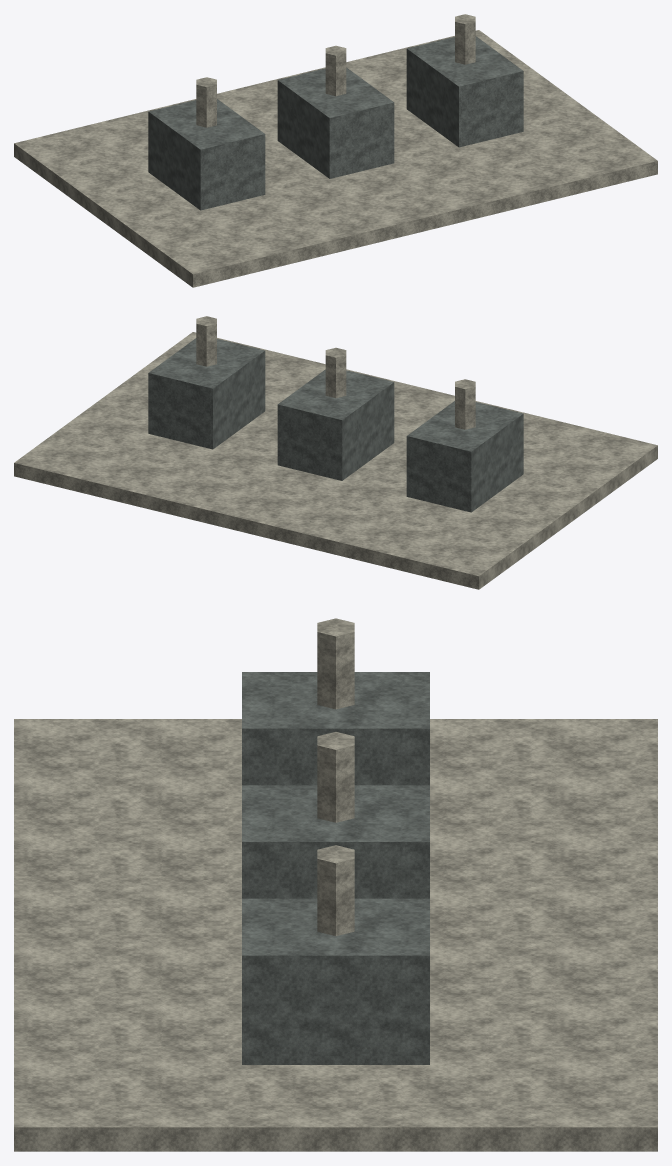
File: Strategic_Substation.fbx
3 views of the same model, one above another, from view 1: azimuth 30°, elevation 25°; view 2: azimuth 150°, elevation 25°; view 3: azimuth 270°, elevation 25° (orthographic). The views are drawn at different scales.
Visible parts, largest first — view 1: Strategic_Substation; view 2: Strategic_Substation; view 3: Strategic_Substation.
Part boxes in pixels (<box>): Strategic_Substation: <box>14,14,657,287</box>; Strategic_Substation: <box>14,316,657,589</box>; Strategic_Substation: <box>14,618,657,1151</box>.
Bounding box in the file's own units: 3600 × 850 × 2400.
